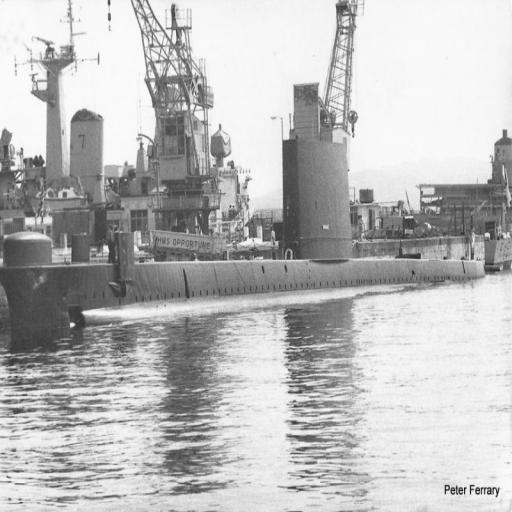submarine: (3, 138, 492, 339)
